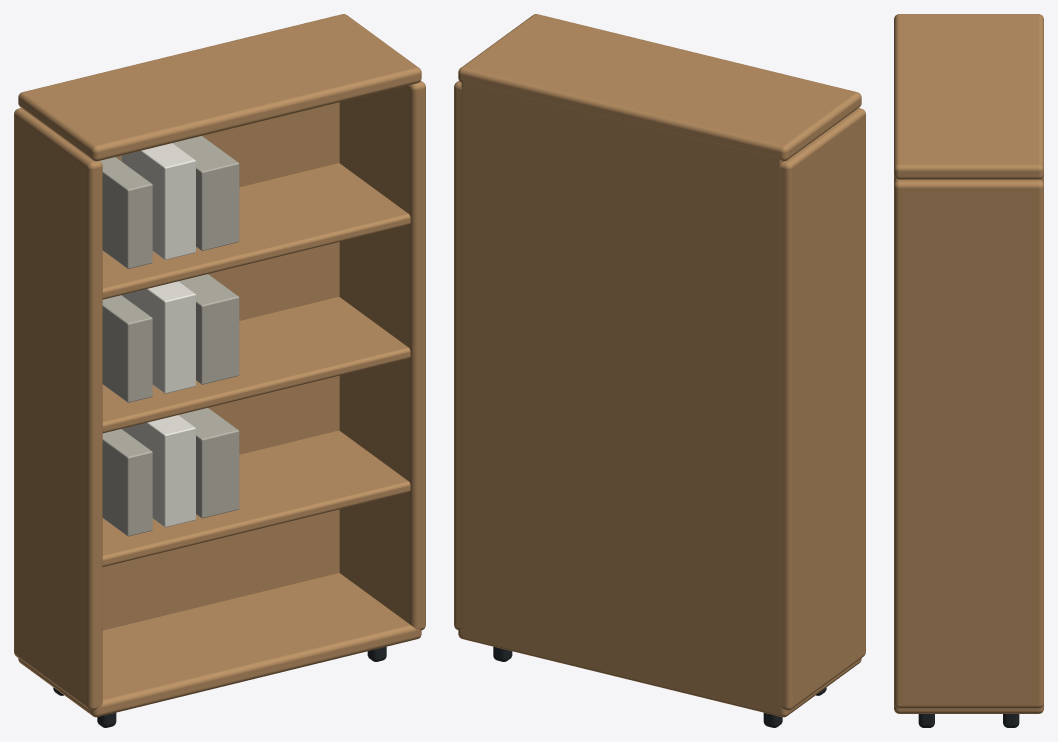
File: storage-2.glb
3 renders of one model, left to right at view 1: azimuth 30°, elevation 25°; view 2: azimuth 150°, elevation 25°; view 3: azimuth 270°, elevation 25°, orthographic. The views are drawn at different scales.
Visible parts, largest first — view 1: storage:2:archviz; view 2: storage:2:archviz; view 3: storage:2:archviz.
Part boxes in pixels (x1,y1,x2,y2): storage:2:archviz: (14,14,425,727); storage:2:archviz: (454,14,865,727); storage:2:archviz: (894,14,1043,727).
Bounding box in the file's own units: 0.8 × 1.35 × 0.32.
